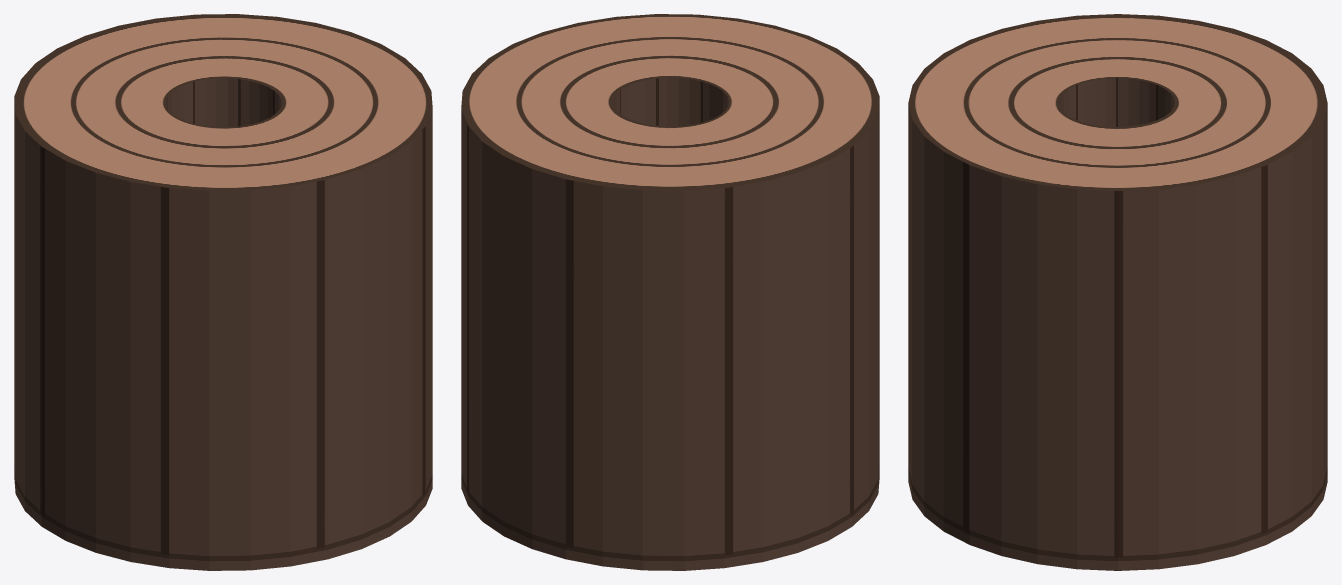
File: LogWithHole.fbx
The picture shows the model from 3 angles, left to right: view 1: azimuth 30°, elevation 25°; view 2: azimuth 150°, elevation 25°; view 3: azimuth 270°, elevation 25°; orthographic projection.
Parts seen in each view (by area): view 1: Cylinder; view 2: Cylinder; view 3: Cylinder.
Boxes of the visible parts, x1,y1,x2,y2 form: Cylinder: (14,14,432,570); Cylinder: (461,14,879,570); Cylinder: (908,14,1327,570).
Bounding box in the file's own units: 200 × 200 × 200.
1 material, 1 textured.
